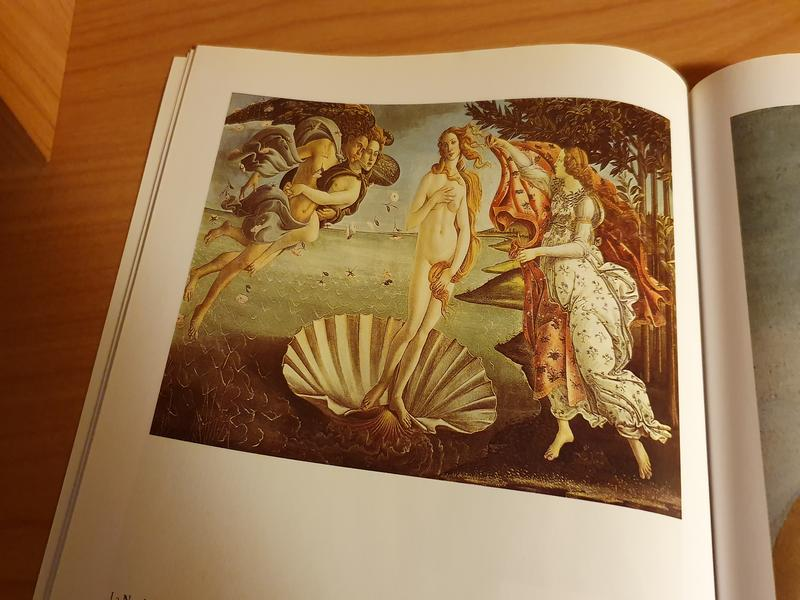Venere: (147, 92, 683, 529)
